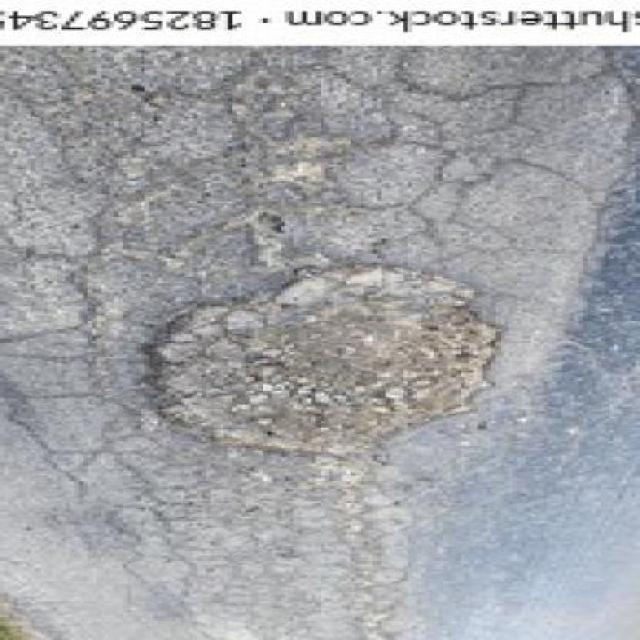pothole: (136, 260, 513, 460)
